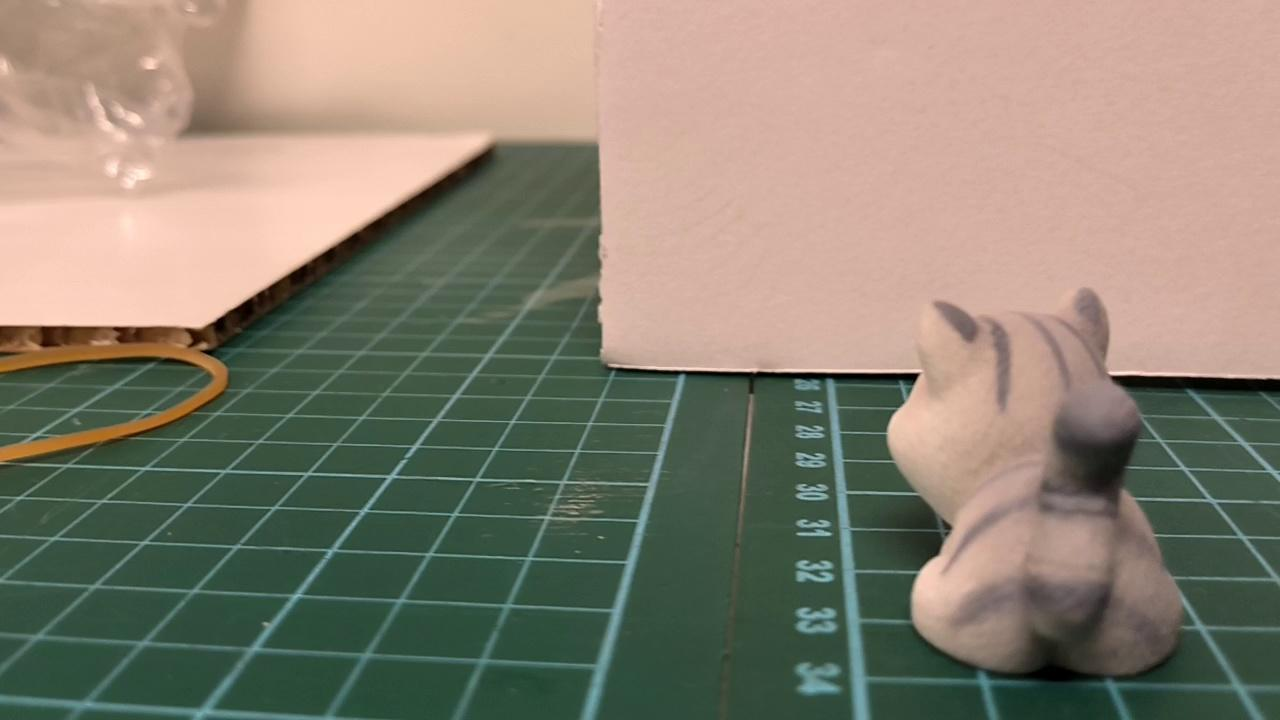pet: (877, 288, 1194, 680)
